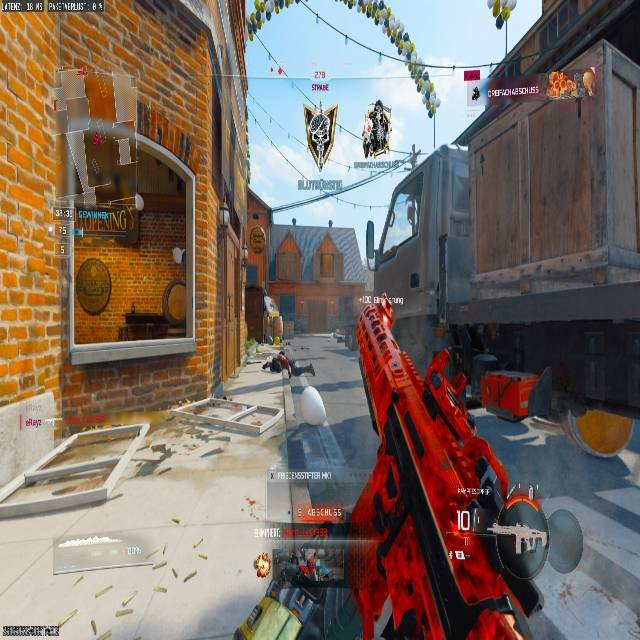player: (247, 546, 339, 640)
